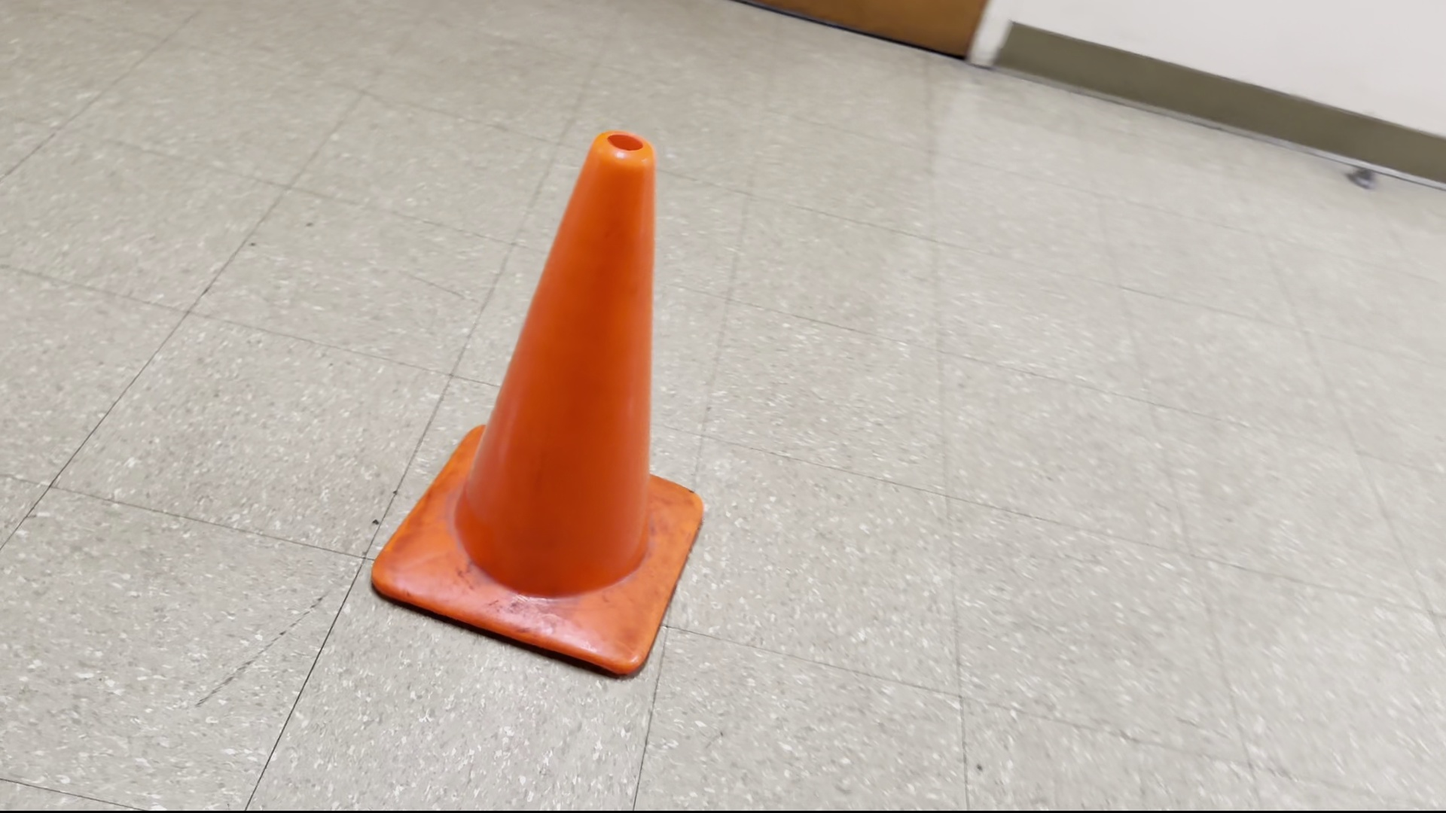traffic_cone: (370, 128, 705, 678)
